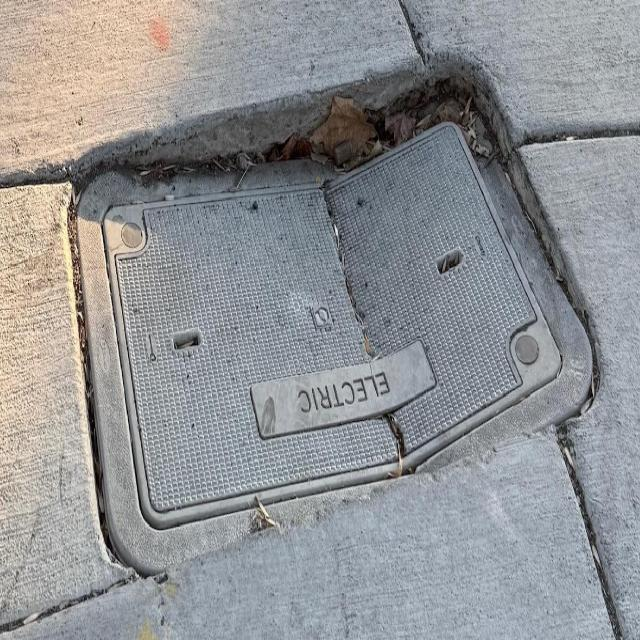hole: (51, 28, 616, 584)
